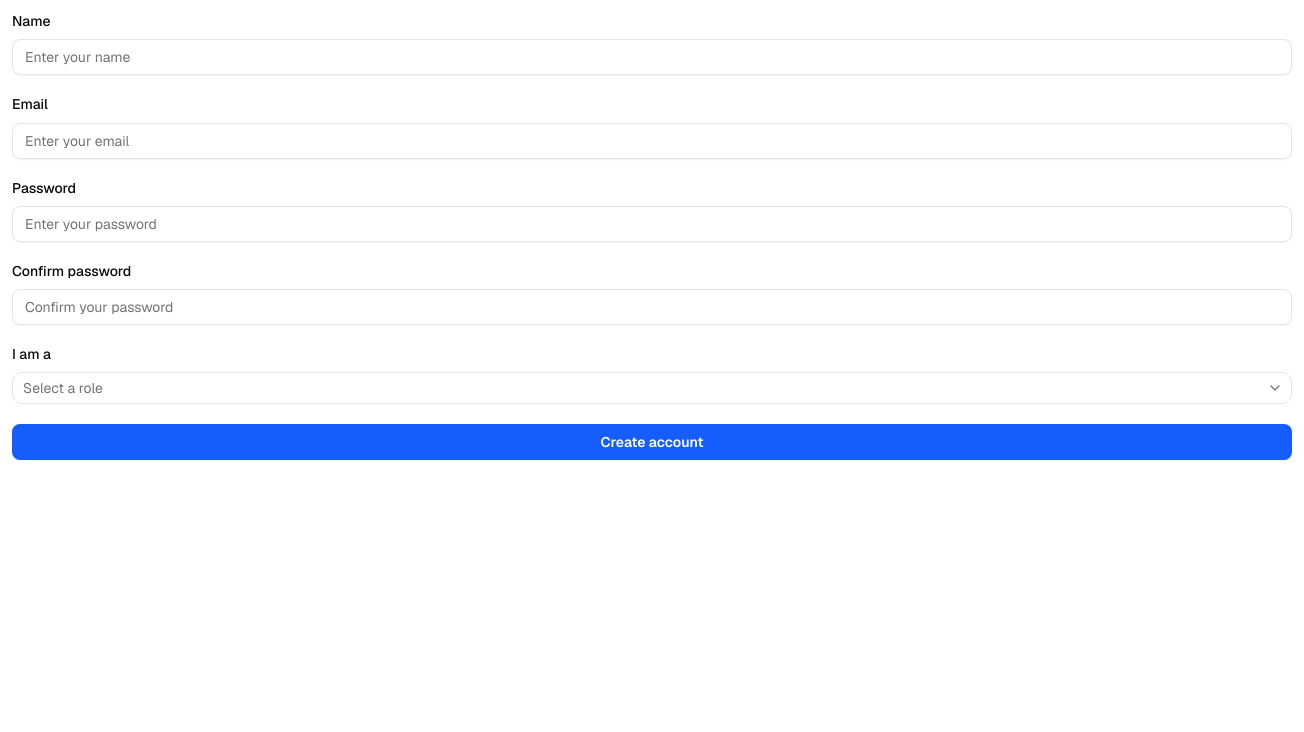
Test case: RegisterForm › shows validation errors when submitted empty
This screenshot has width=1304, height=732.
Click the button "Create account": (652, 442) 12,424 -> 1292,460
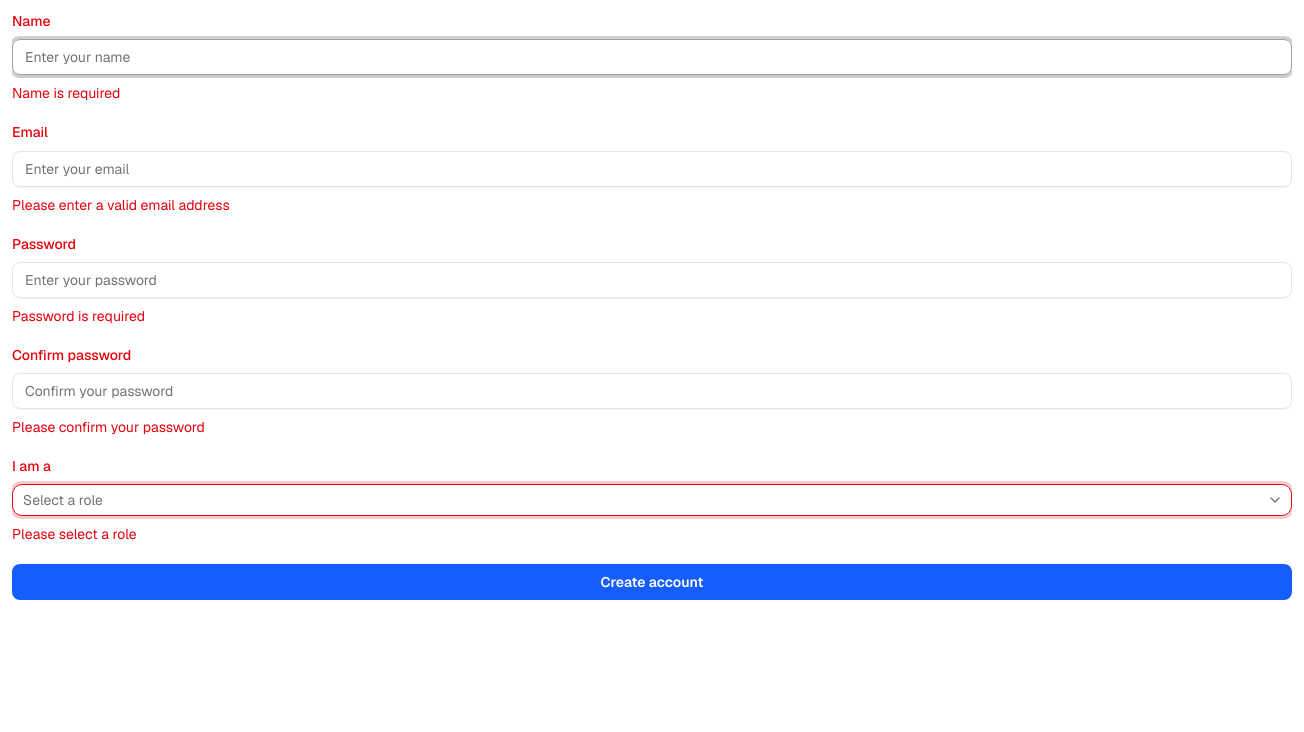
Result: the text "Name is required" is shown at 12,84 -> 120,102
Result: the text "Please enter a valid email address" is shown at 12,196 -> 230,214
Result: the text "Password is required" is shown at 12,307 -> 145,325
